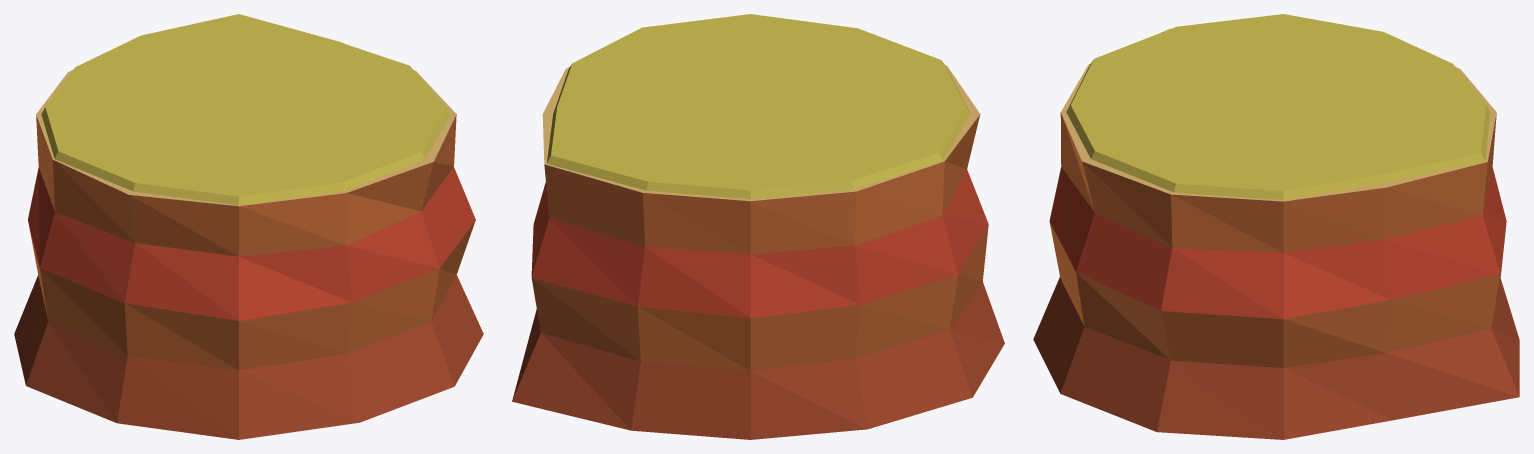
The model's file is CA_Meseta_Alta.obj.
3 renders of one model, left to right at view 1: azimuth 30°, elevation 25°; view 2: azimuth 150°, elevation 25°; view 3: azimuth 270°, elevation 25°, orthographic. The views are drawn at different scales.
Parts seen in each view (by area): view 1: CA_Meseta_Alta; view 2: CA_Meseta_Alta; view 3: CA_Meseta_Alta.
Part boxes in pixels (x1=…): CA_Meseta_Alta: x1=14, y1=14, x2=483, y2=439; CA_Meseta_Alta: x1=512, y1=14, x2=1004, y2=439; CA_Meseta_Alta: x1=1033, y1=14, x2=1519, y2=439.
Size of the model in its own units: 13.73 by 7.22 by 13.58.
